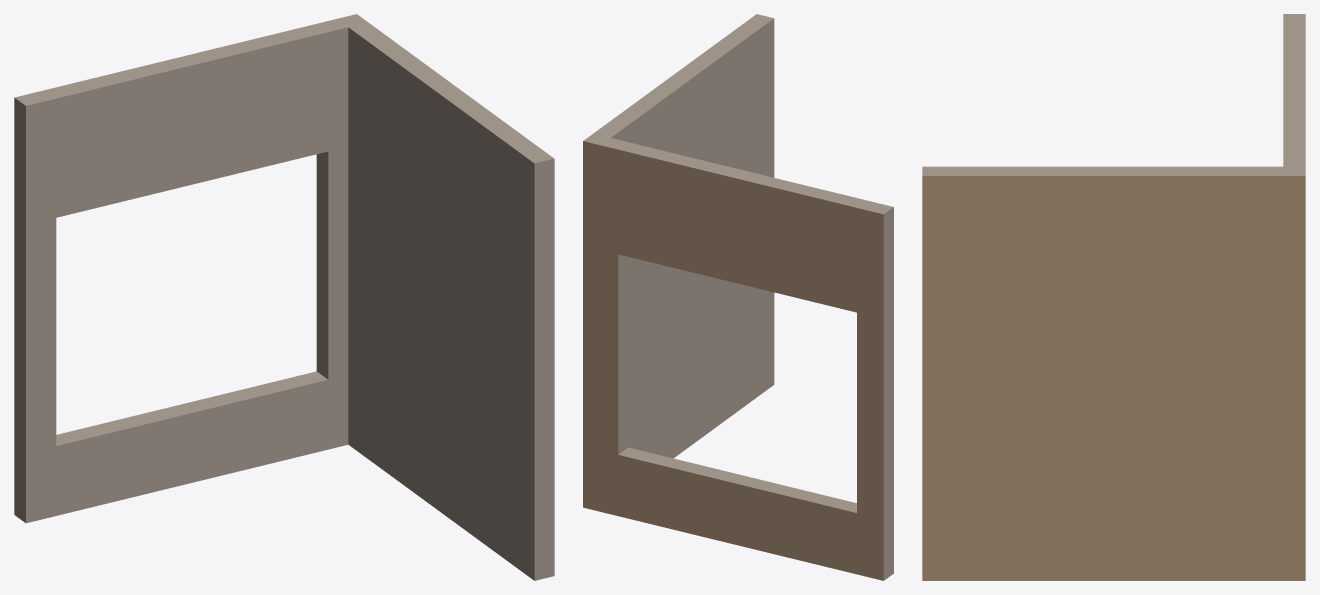
Rendered from Wall2_C4_13.fbx.
3 renders of one model, left to right at view 1: azimuth 30°, elevation 25°; view 2: azimuth 150°, elevation 25°; view 3: azimuth 270°, elevation 25°, orthographic. The views are drawn at different scales.
Visible parts, largest first — view 1: Wall2_C4_13; view 2: Wall2_C4_13; view 3: Wall2_C4_13.
Boxes of the visible parts, left/top/right/bottom form: Wall2_C4_13: left=14, top=14, right=554, bottom=580; Wall2_C4_13: left=583, top=14, right=893, bottom=580; Wall2_C4_13: left=922, top=14, right=1305, bottom=580.
Size of the model in its own units: 258 by 300 by 258.
